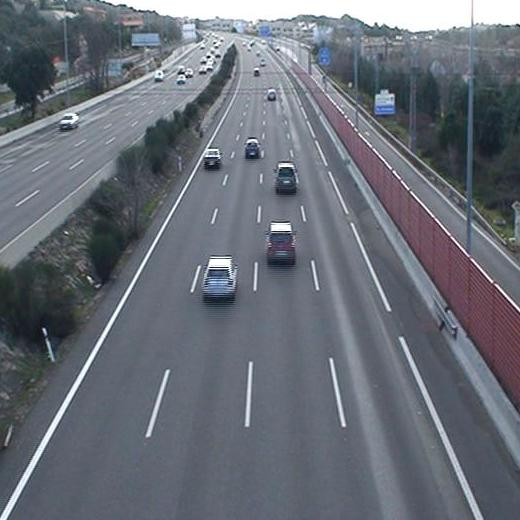car: (201, 256, 238, 301), (265, 221, 297, 264), (274, 163, 297, 192), (203, 148, 221, 167), (244, 138, 261, 158), (265, 88, 278, 101)
